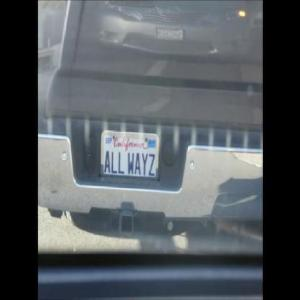Plate: (100, 130, 160, 179)
